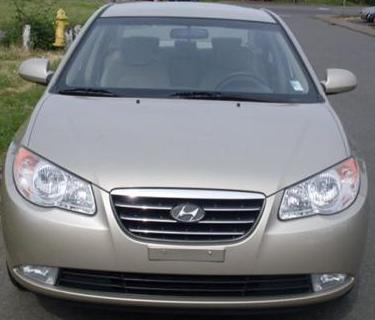front_view: (9, 139, 370, 311)
headlight: (9, 141, 101, 220)
